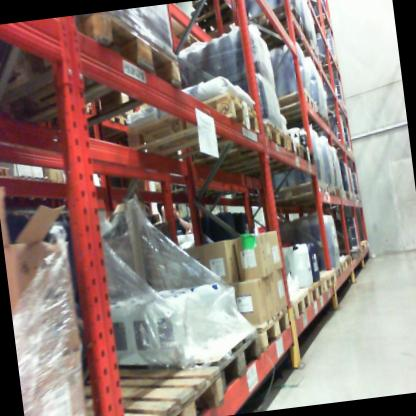pallet: (0, 5, 187, 145), (115, 76, 268, 177), (69, 346, 237, 416), (127, 325, 263, 408), (172, 119, 290, 178), (213, 133, 302, 177), (227, 0, 302, 50), (232, 303, 294, 359), (263, 177, 330, 201), (272, 86, 315, 123), (279, 285, 315, 325), (283, 36, 324, 69), (294, 277, 326, 310), (307, 267, 338, 294), (298, 141, 318, 176), (322, 263, 344, 288), (334, 250, 355, 274), (330, 255, 349, 279), (313, 15, 338, 33), (296, 0, 329, 11), (309, 100, 322, 124), (337, 182, 355, 199), (322, 110, 333, 136), (326, 183, 338, 205), (332, 175, 339, 203)
